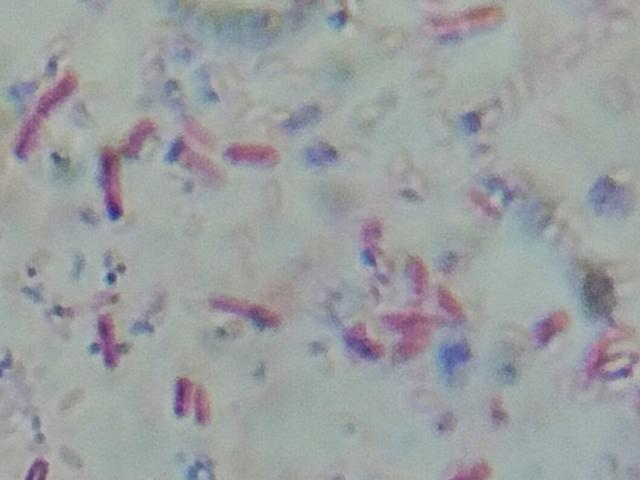E. coli: (13, 67, 84, 165), (219, 292, 280, 328), (438, 3, 512, 30), (101, 146, 126, 224), (232, 135, 283, 173), (95, 309, 121, 374), (533, 300, 572, 339), (452, 457, 511, 480), (122, 113, 154, 154), (351, 317, 384, 352), (391, 310, 435, 331), (439, 287, 465, 322), (409, 256, 429, 301), (401, 333, 437, 357), (362, 219, 381, 264), (195, 387, 214, 430), (173, 375, 188, 415)
